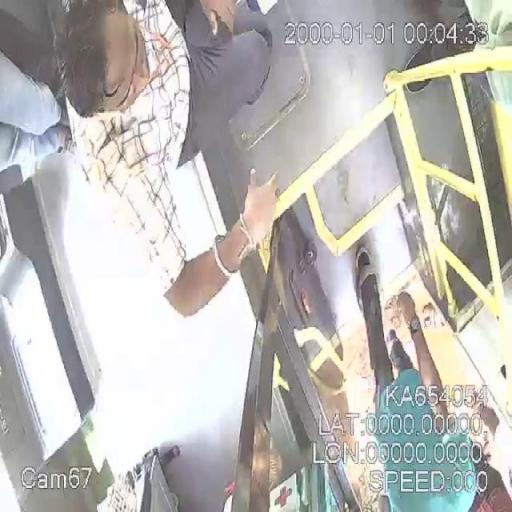persona: (54, 1, 280, 321), (347, 240, 486, 510)
